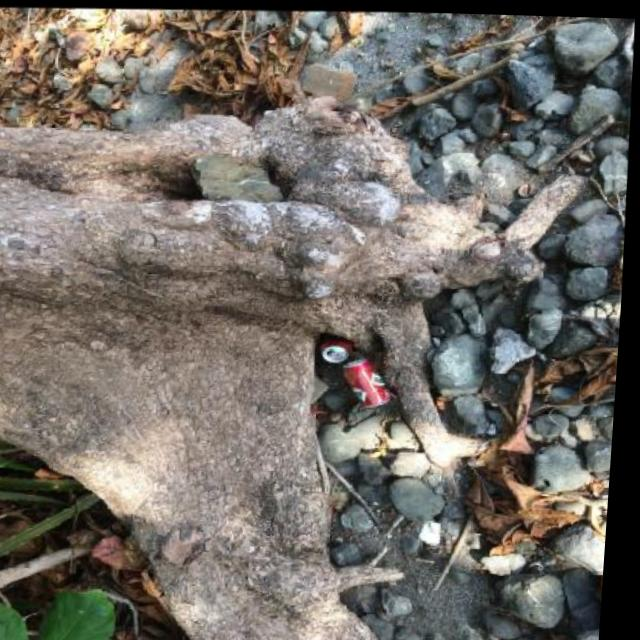metal: (339, 355, 394, 406), (318, 333, 354, 362)
